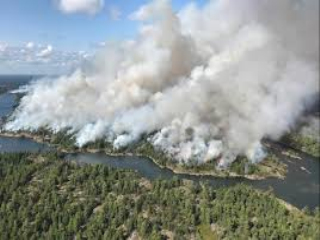smoke: (10, 14, 298, 163)
